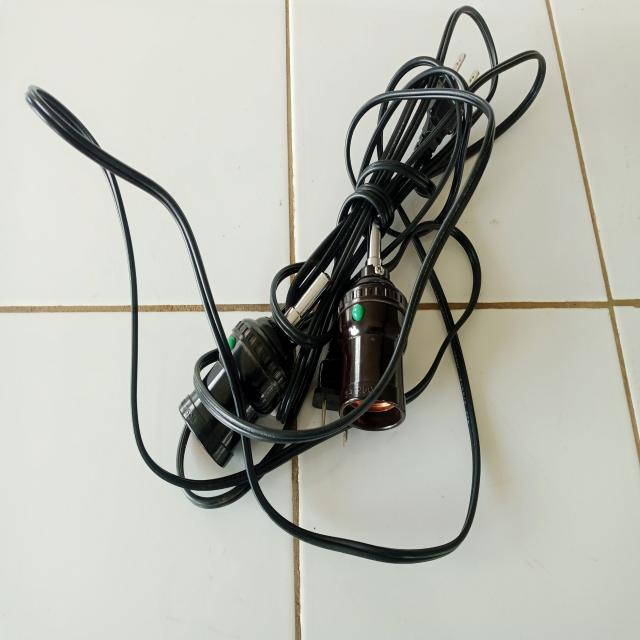Bulb Socket: (152, 173, 472, 518)
